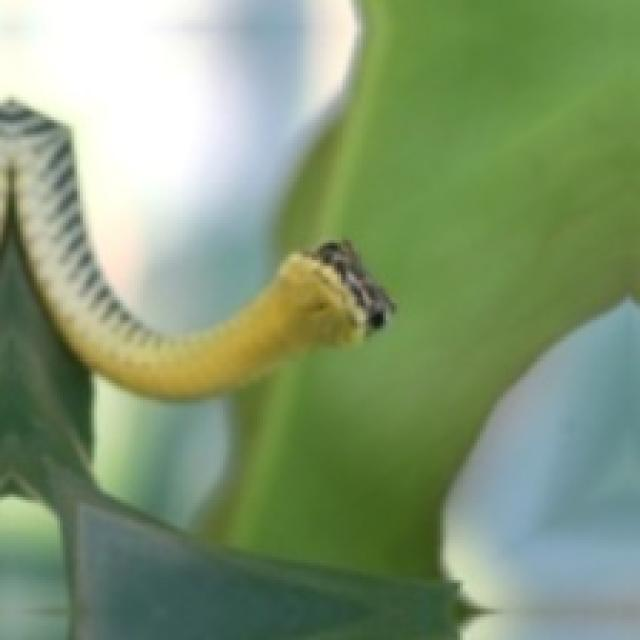paradise tree snake: (0, 100, 391, 397)
